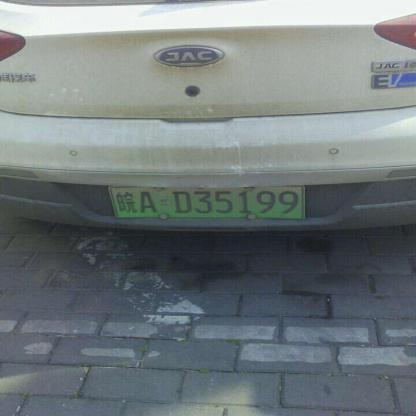lp: (110, 186, 304, 217)
